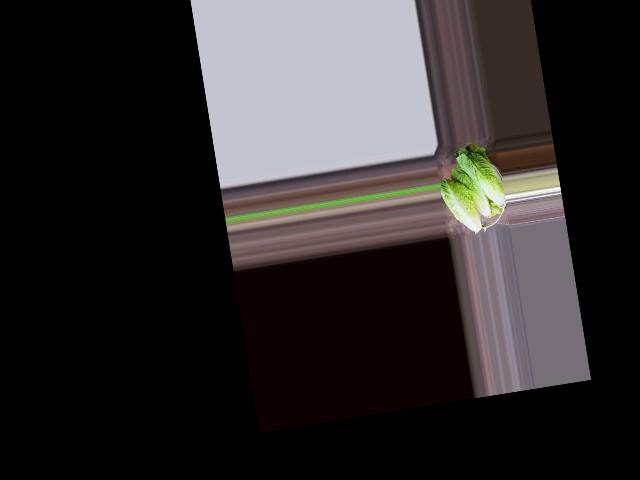lettuce: (453, 141, 507, 219)
